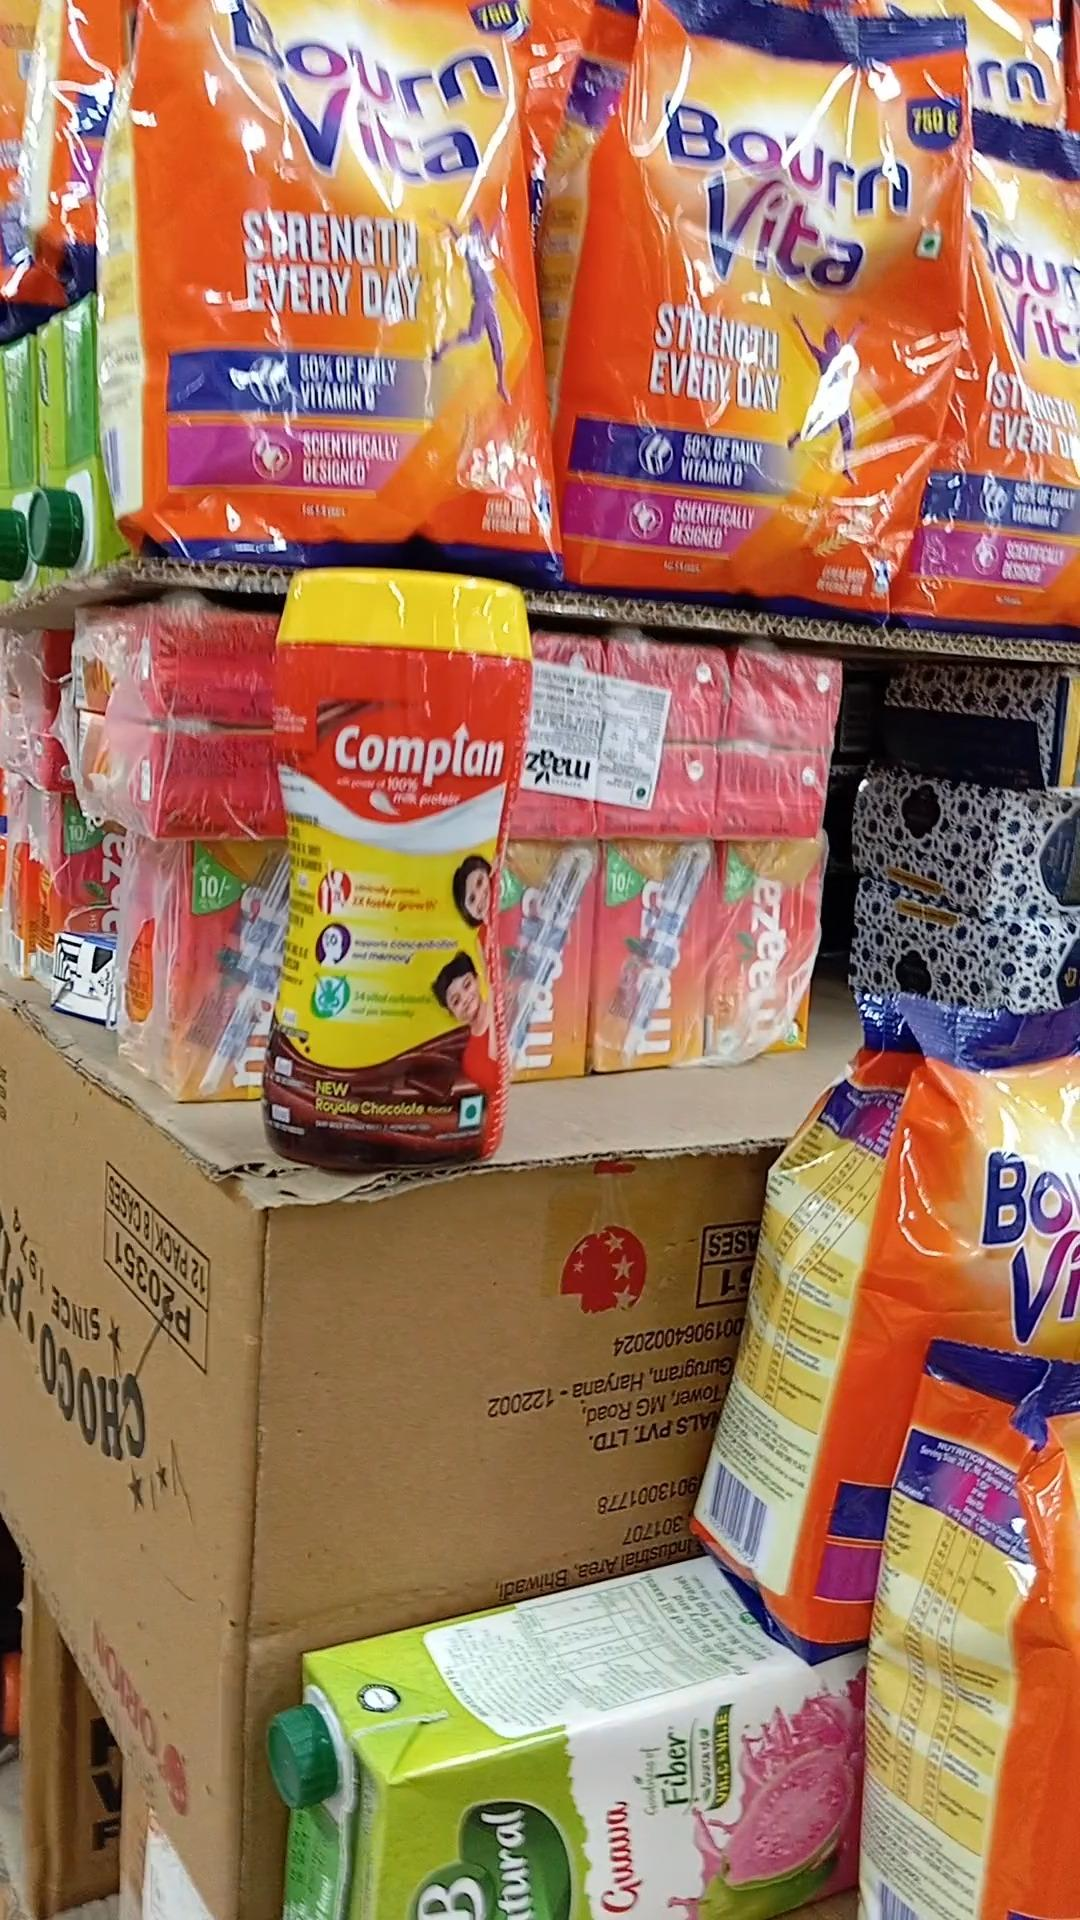COMPLAN_CHOCOLATE_200_GMS_JAR: (262, 556, 497, 1154)
